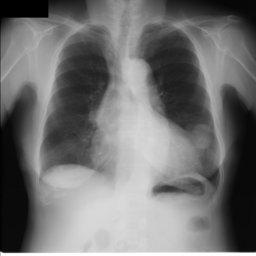left lobe: (140, 24, 219, 184)
right lobe: (43, 25, 116, 172)
